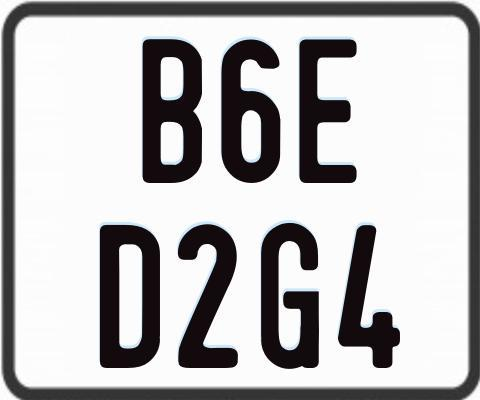2: (178, 223, 240, 368)
4: (337, 224, 405, 372)
6: (219, 39, 283, 187)
B: (142, 38, 202, 184)
D: (100, 225, 161, 373)
E: (299, 36, 359, 185)
G: (260, 222, 319, 372)
